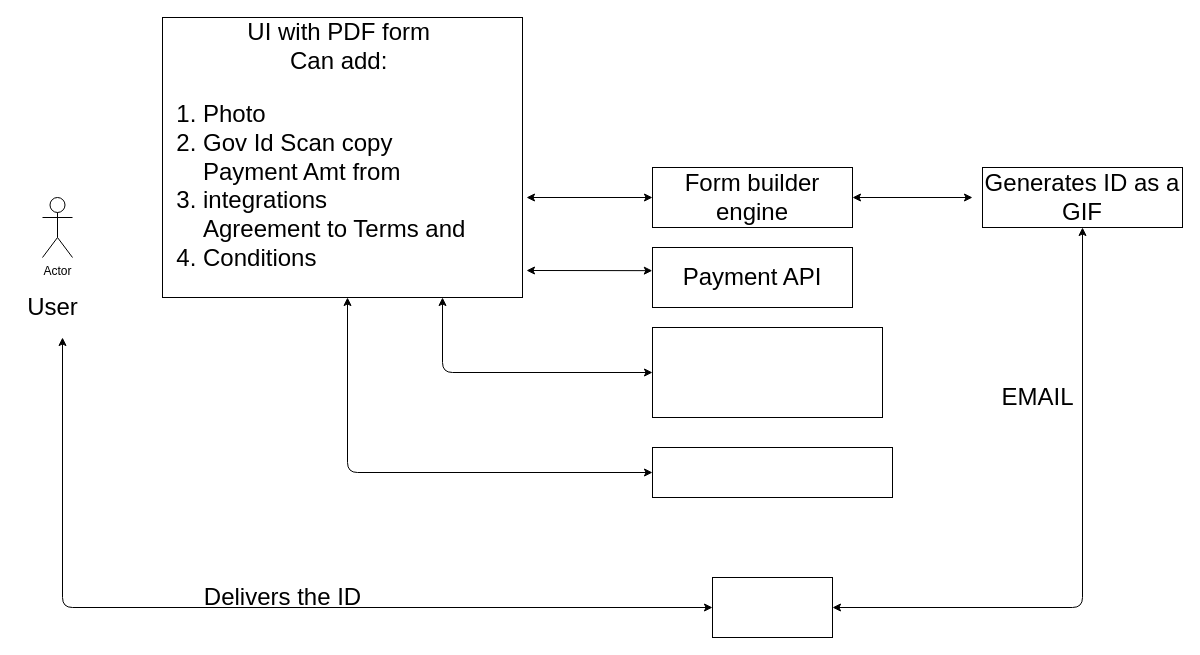
This 1200x655 diagram has some shape labels left out. Here are the shapes that lost their labels. From the top down, the centre of each, then its label:
At point (767, 372): "ML that checks and verifies the photo authenticity".
At point (772, 472): "Database server in the cloud".
At point (772, 607): "Printing Partner".
